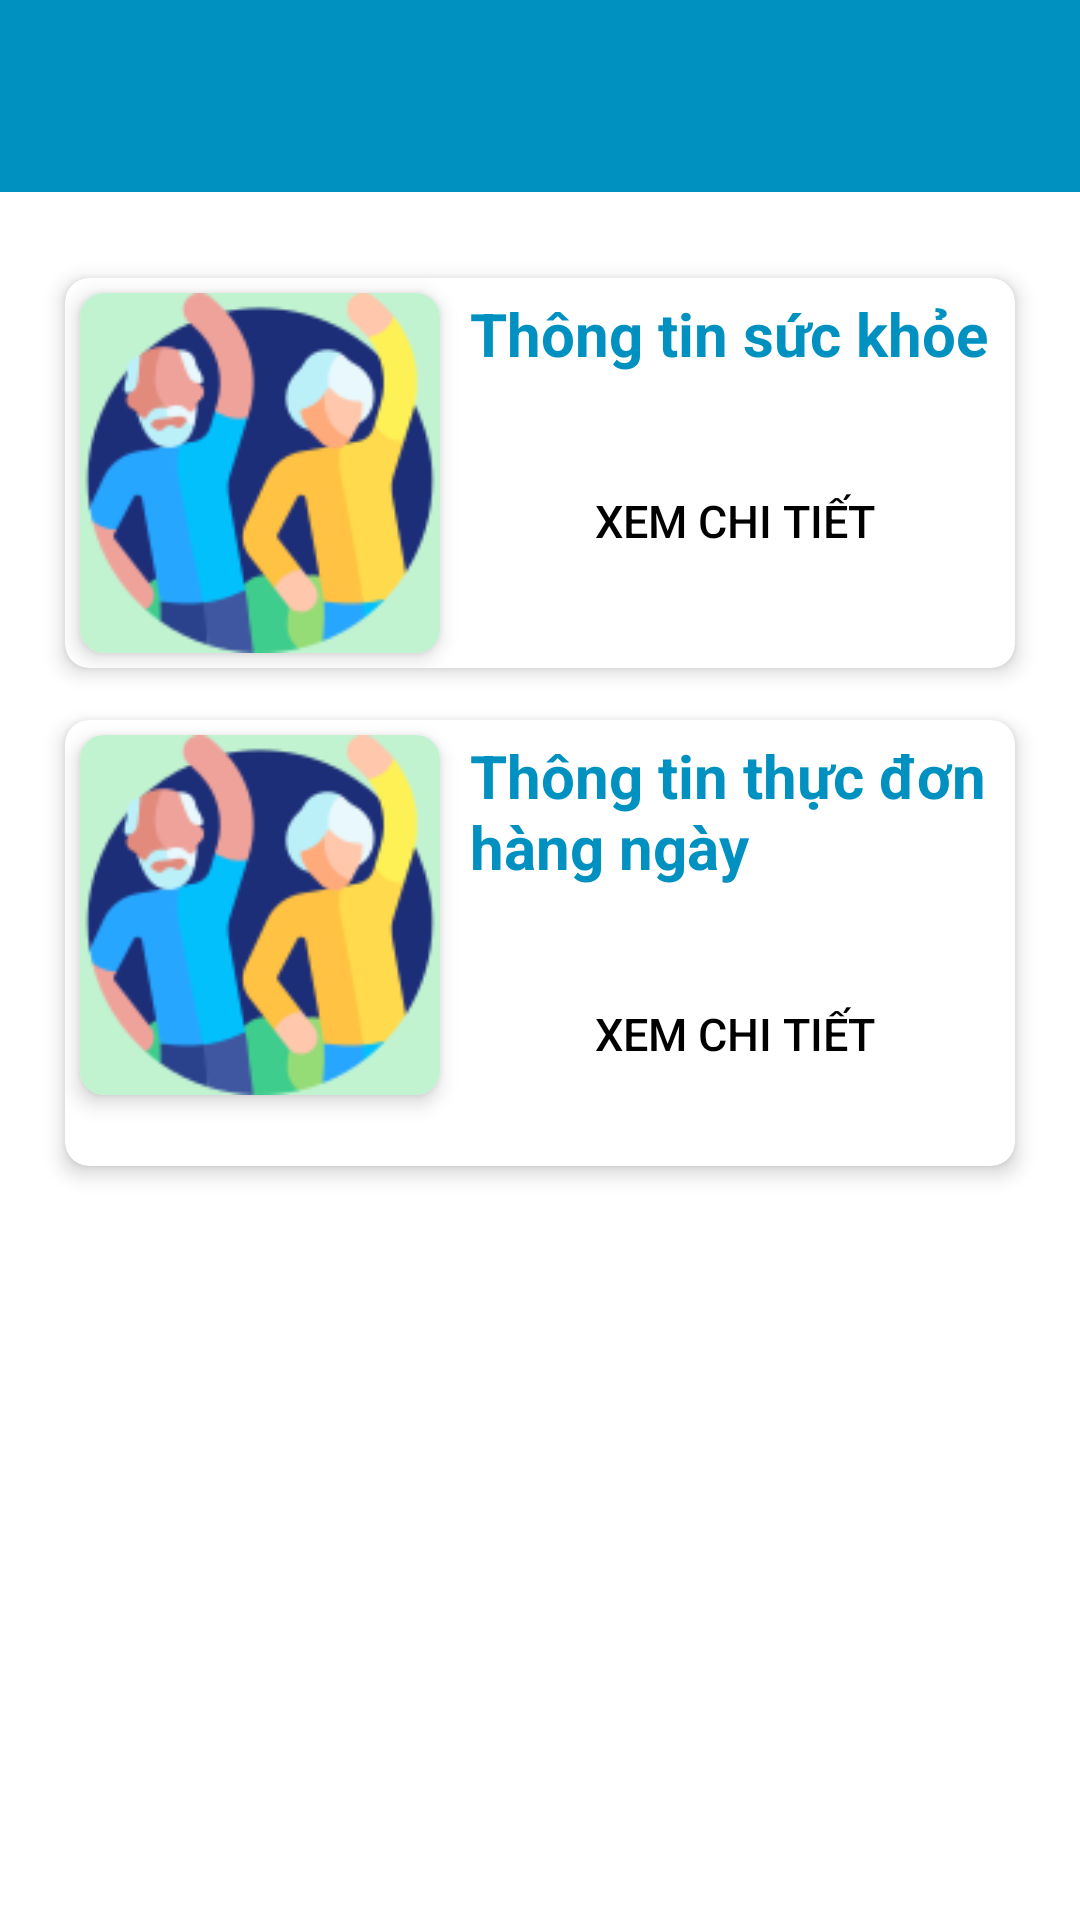

Named icons in this screenshot (1080px×1920px) and their bounding boxes, box=[x1, y1, x2, y2]:
iconserviceinfo: box=[80, 293, 440, 653], box=[80, 735, 440, 1095]
